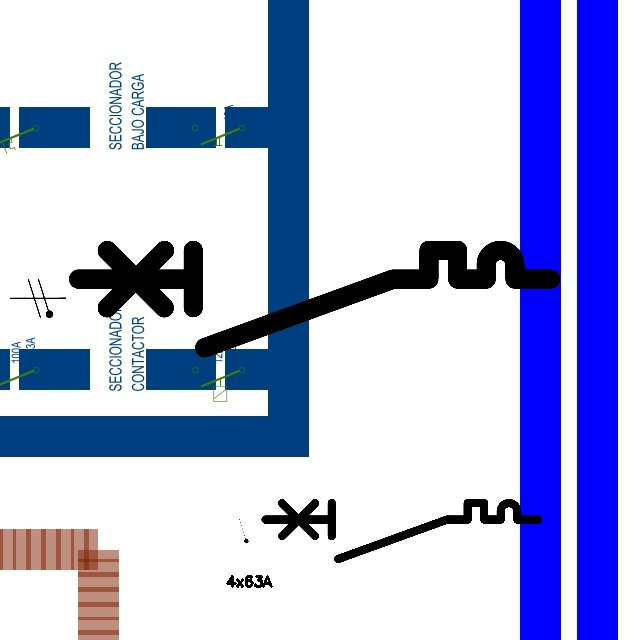interruptor_termomagnetico: (66, 238, 563, 359), (258, 496, 544, 566)
